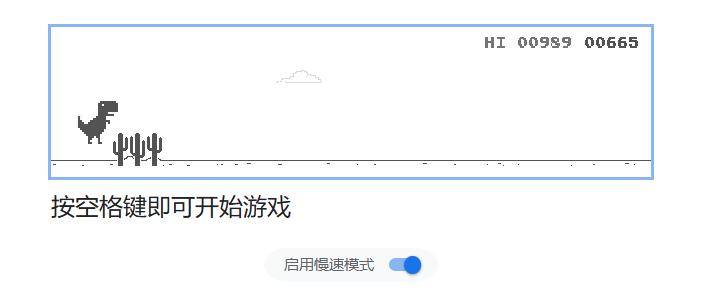cactus: (112, 132, 164, 168)
dino: (75, 99, 118, 145)
